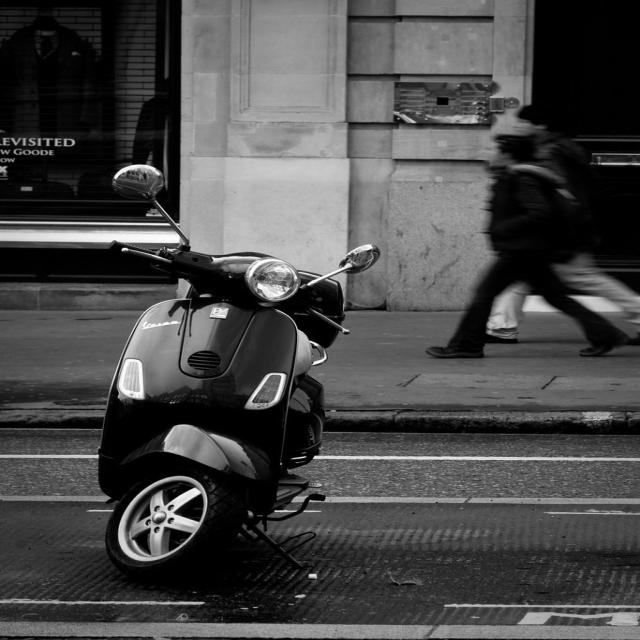scooter: (99, 165, 379, 579)
